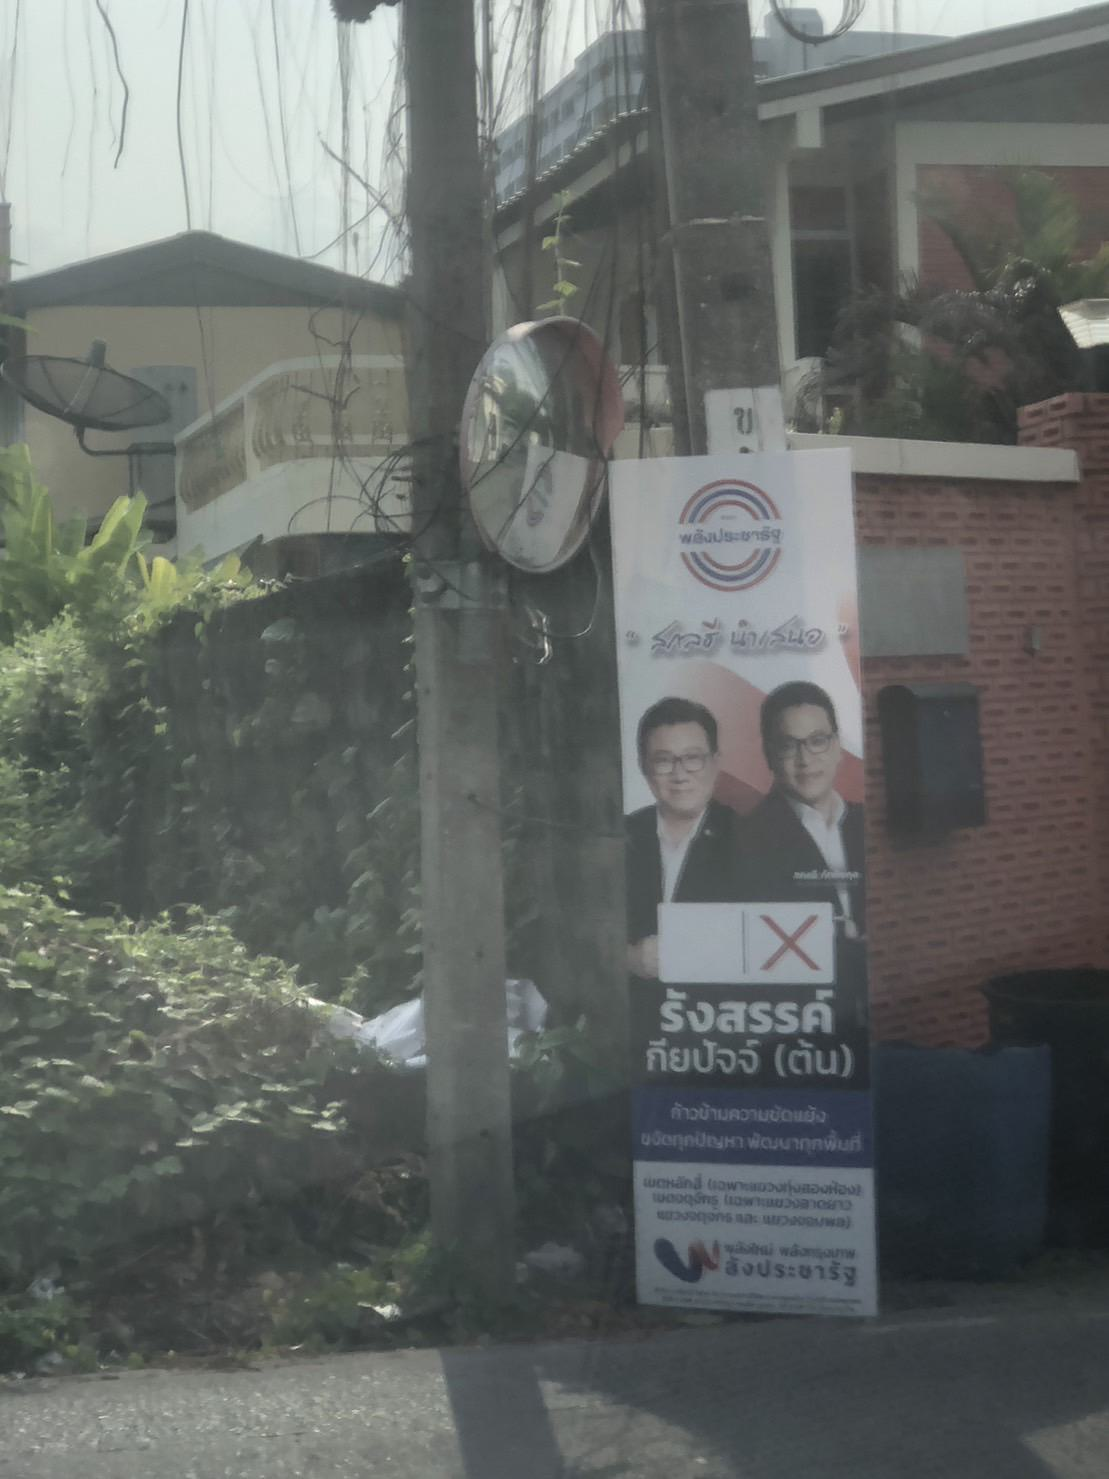Banner: (592, 443, 897, 1326)
